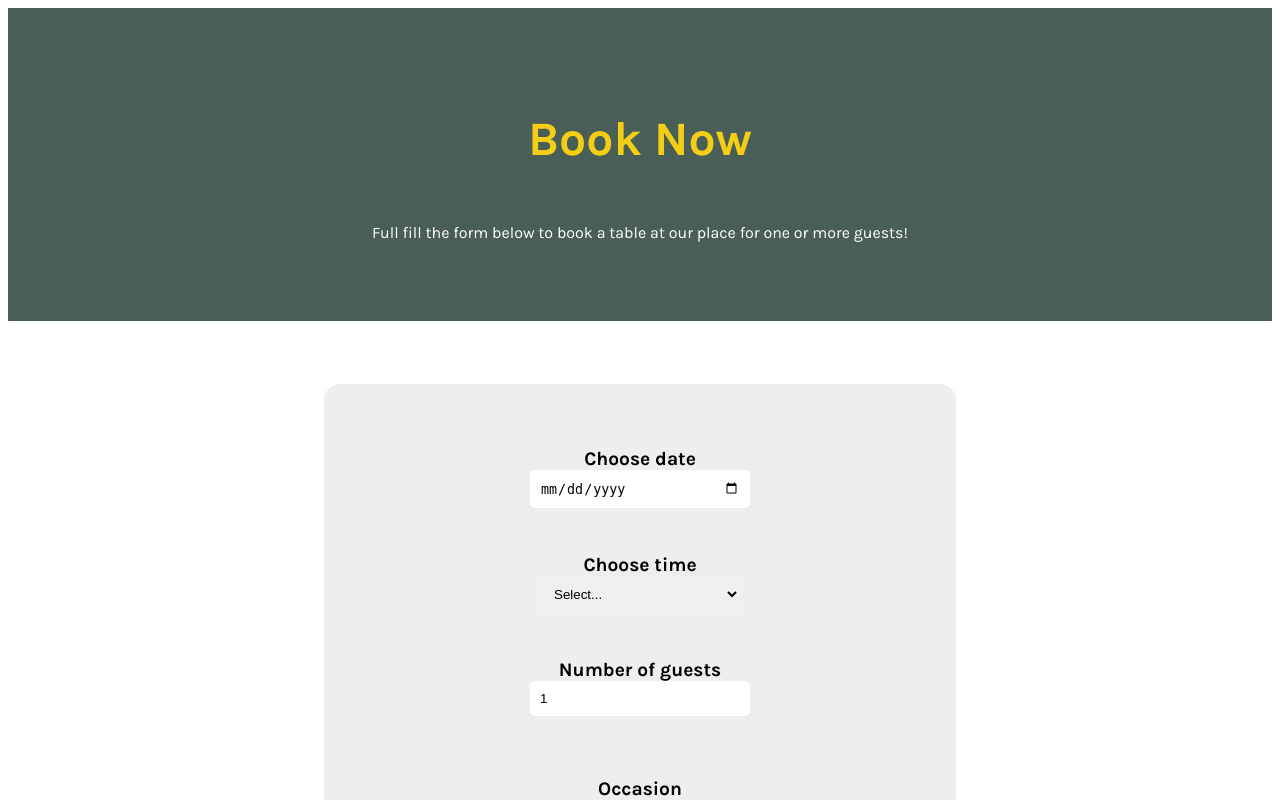
Testing the form validations › testing wrong booking date
The width and height of the screenshot is (1280, 800).
Type "1999-07-20" into the date field labelled "Choose date".
click(640, 489); type("1999-07-20")  # box [530,470,750,508]
(page scrolled)
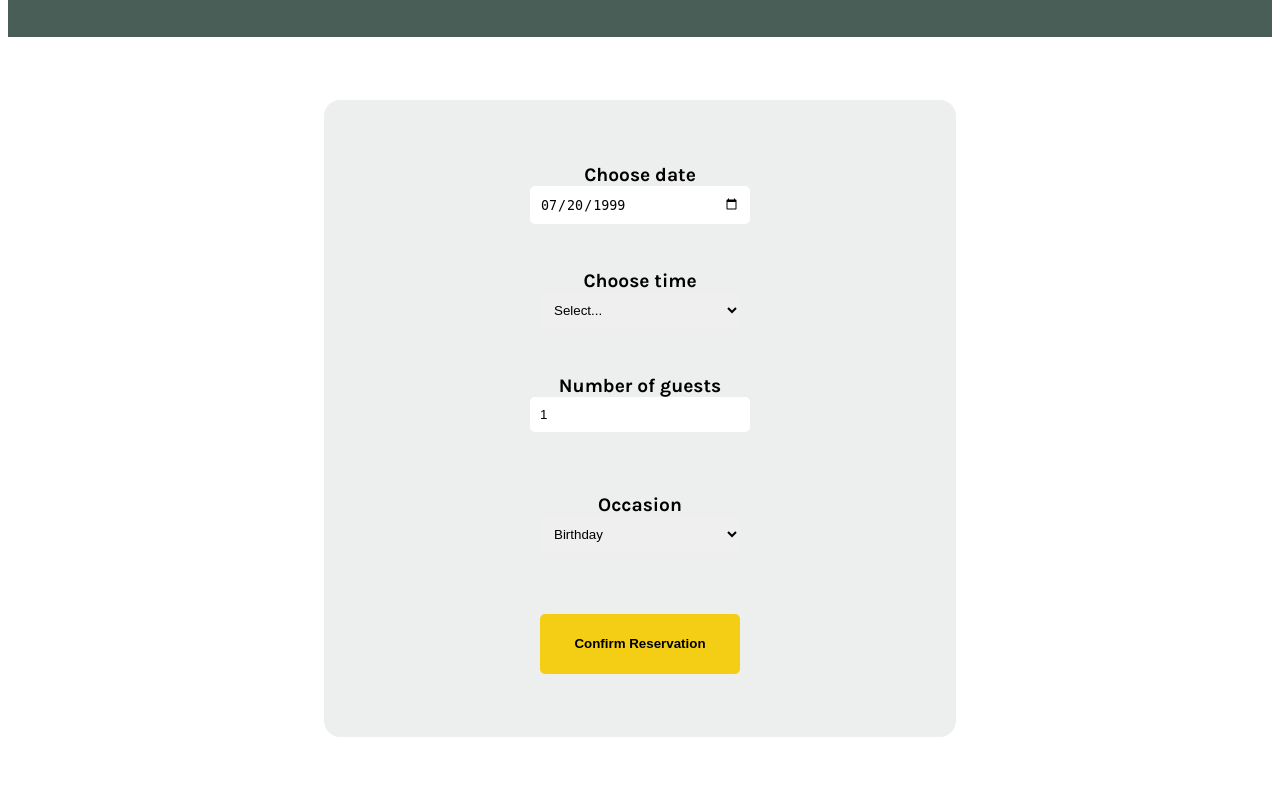
Click the button.
click(640, 644)  # box [540,614,740,674]
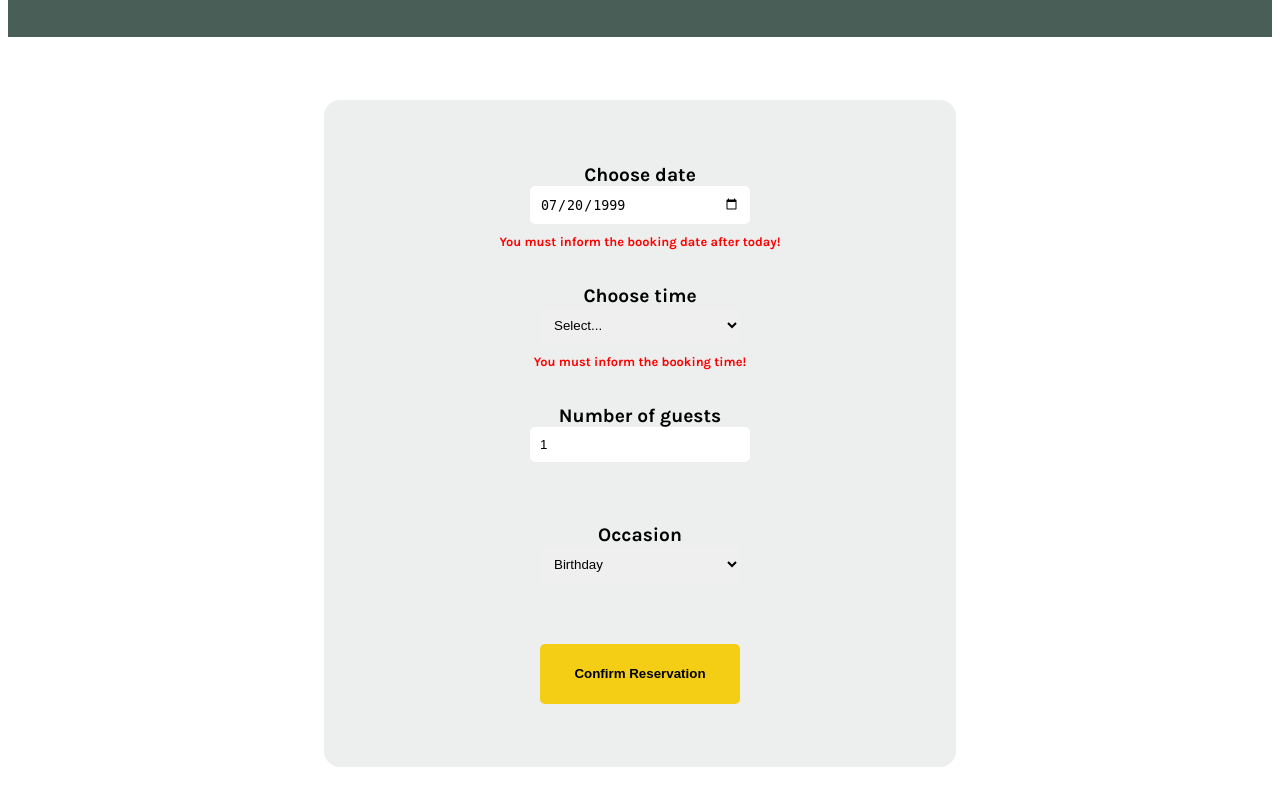
Now the text "You must inform the booking date after today!" is not empty, box [500,234,780,249]
